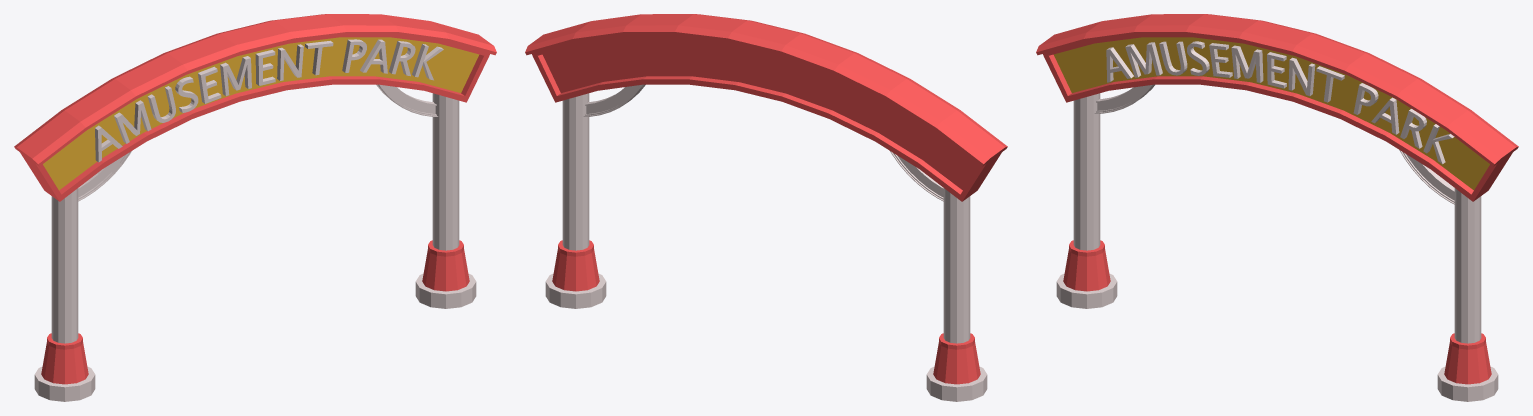
File: Park_entrence_Gate.fbx
The picture shows the model from 3 angles, left to right: view 1: azimuth 30°, elevation 25°; view 2: azimuth 150°, elevation 25°; view 3: azimuth 330°, elevation 25°; orthographic projection.
Visible parts, largest first — view 1: Park_Entrence_Gate; view 2: Park_Entrence_Gate; view 3: Park_Entrence_Gate.
Part boxes in pixels (x1,y1,x2,y2): Park_Entrence_Gate: [14, 14, 496, 401]; Park_Entrence_Gate: [525, 14, 1007, 401]; Park_Entrence_Gate: [1036, 14, 1518, 401].
Bounding box in the file's own units: 1615 × 184 × 1035.
